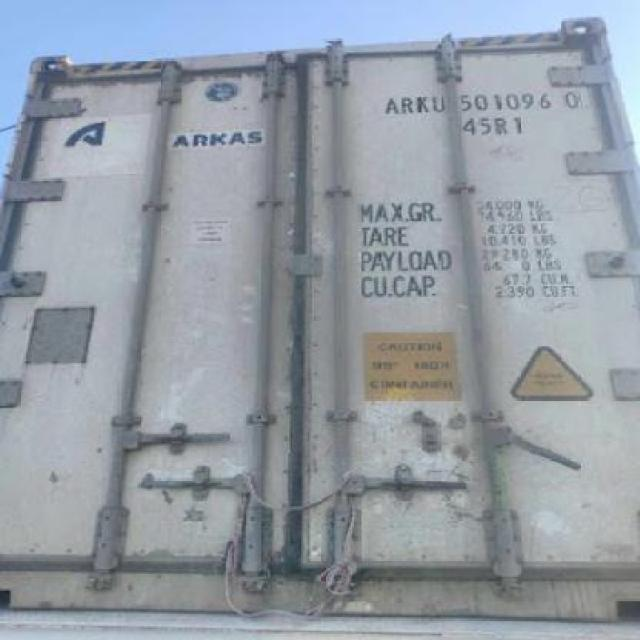ISO: (462, 114, 524, 136)
container_number: (395, 90, 577, 112)
